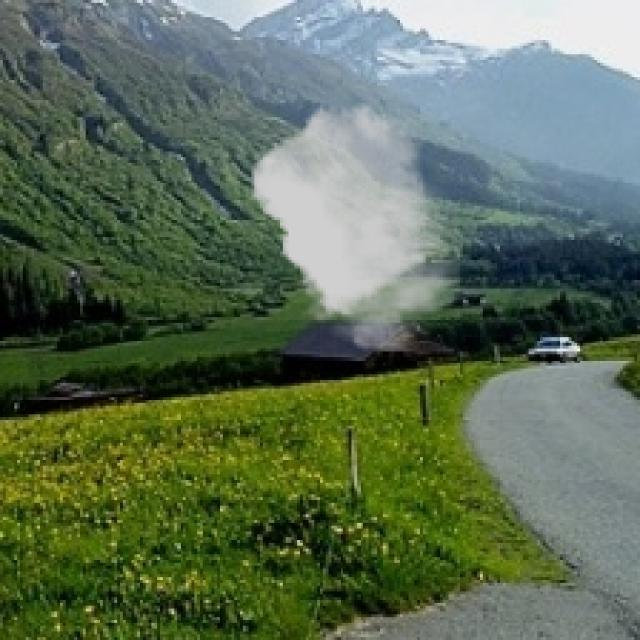Smoke: (252, 102, 459, 352)
